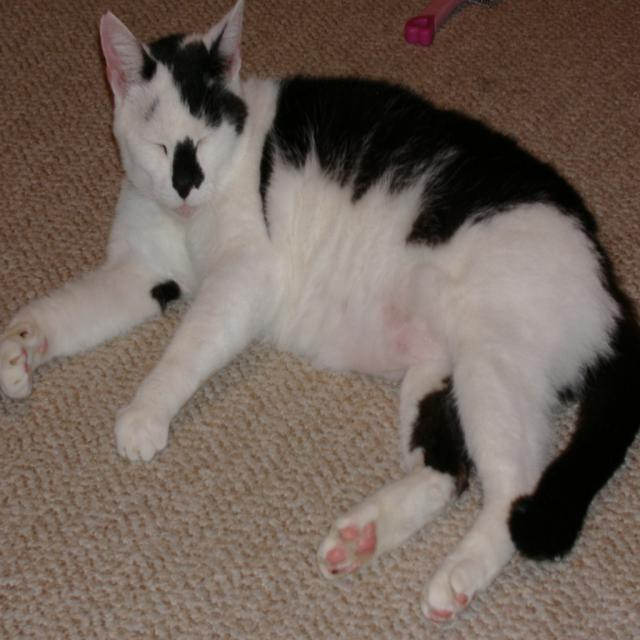Cat: (0, 0, 639, 621)
